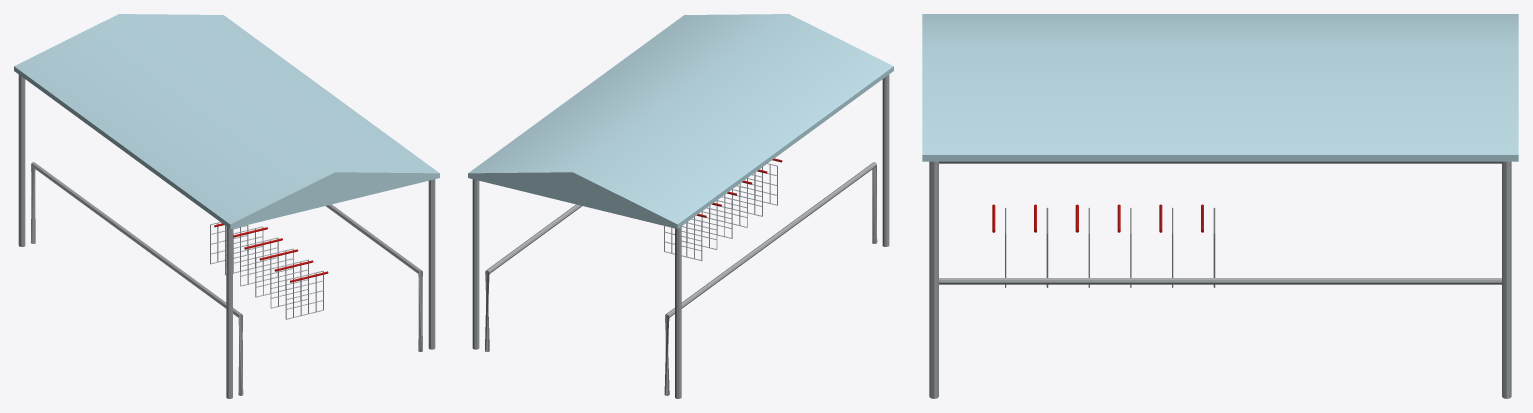
Rendered from retail.store.trolley_bay.glb.
3 renders of one model, left to right at view 1: azimuth 30°, elevation 25°; view 2: azimuth 150°, elevation 25°; view 3: azimuth 270°, elevation 25°, orthographic. The views are drawn at different scales.
Parts seen in each view (by area): view 1: main__glass, main__steel_galvanised, main__plastic_red; view 2: main__glass, main__steel_galvanised; view 3: main__glass, main__steel_galvanised, main__plastic_red.
Boxes of the visible parts, bbox=[...] form: main__glass: bbox=[14, 14, 439, 228]; main__steel_galvanised: bbox=[18, 74, 435, 398]; main__plastic_red: bbox=[214, 223, 328, 282]; main__glass: bbox=[468, 14, 893, 228]; main__steel_galvanised: bbox=[472, 74, 889, 398]; main__glass: bbox=[922, 14, 1518, 161]; main__steel_galvanised: bbox=[929, 161, 1511, 398]; main__plastic_red: bbox=[992, 204, 1203, 232].
Bounding box in the file's own units: 2.8 × 2.6 × 5.
